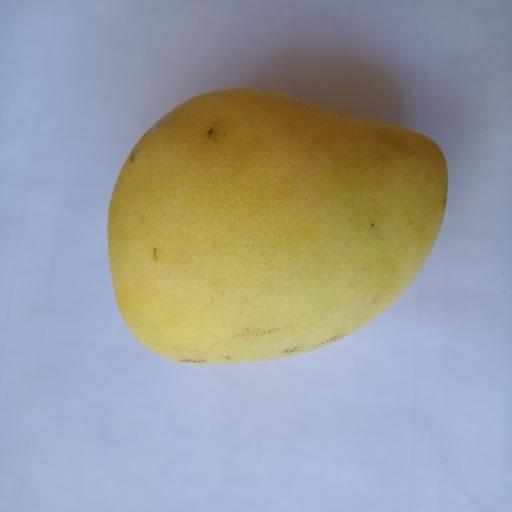mango-ripe: (87, 57, 463, 377)
